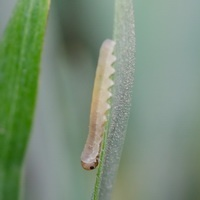insect: (81, 39, 115, 169)
